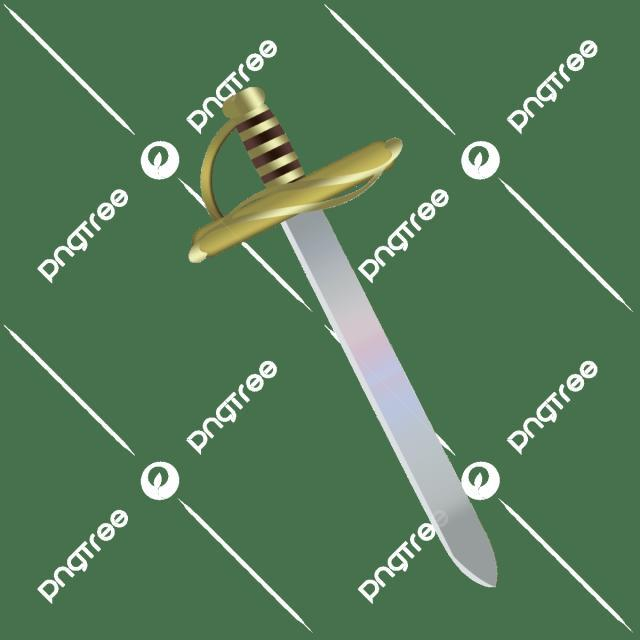Pisau: (211, 62, 513, 606)
